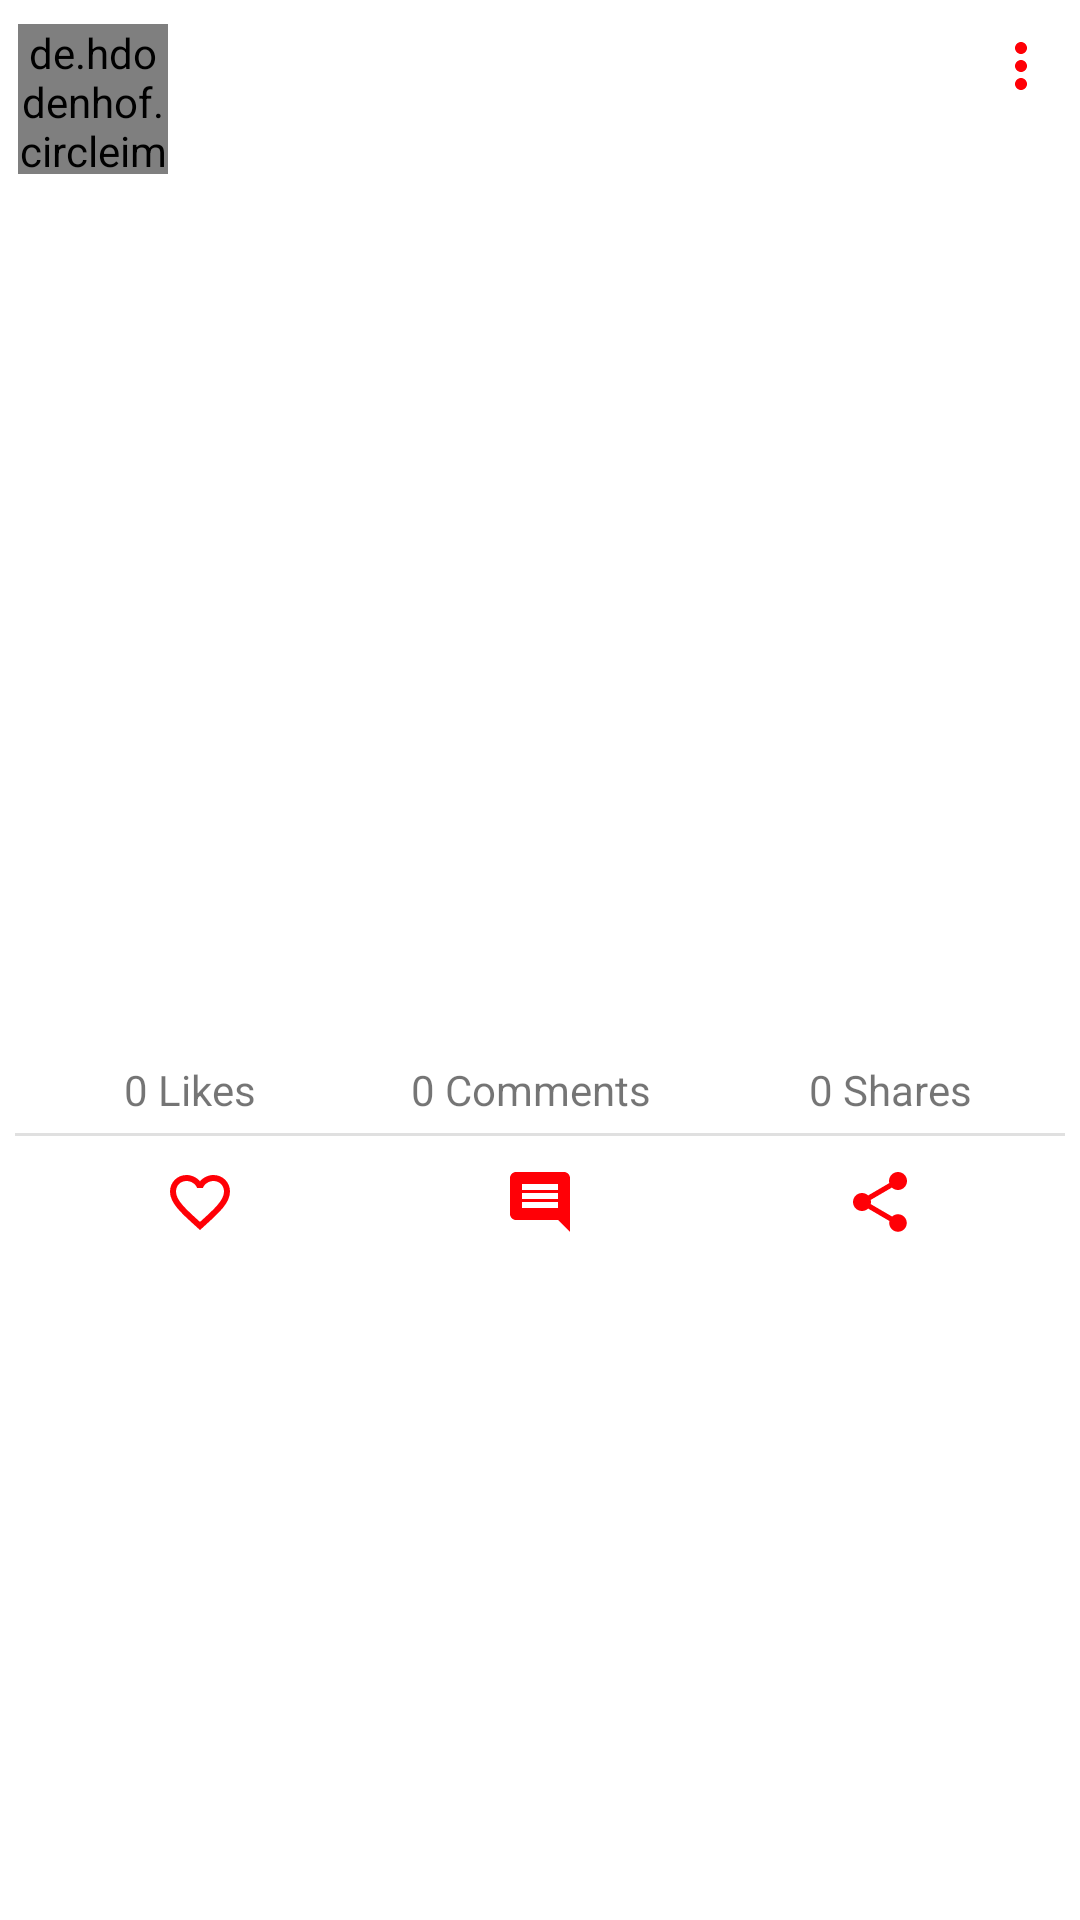

Where to tap for icons on this 1080px x 1920px app screen, as [x,y]:
more: [1021,66]
